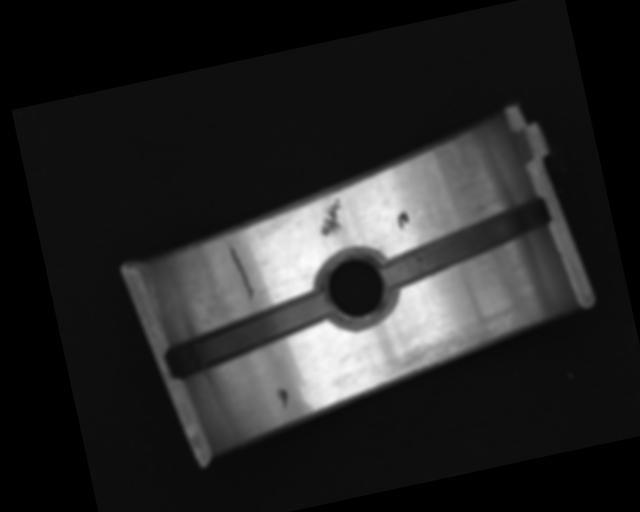blot: (394, 209, 412, 232)
bruise: (314, 197, 348, 237), (275, 387, 290, 410)
gap: (374, 197, 557, 290), (160, 287, 336, 379)
hole: (312, 245, 400, 335)
nick: (226, 237, 255, 303)
scratch: (374, 306, 528, 383)
